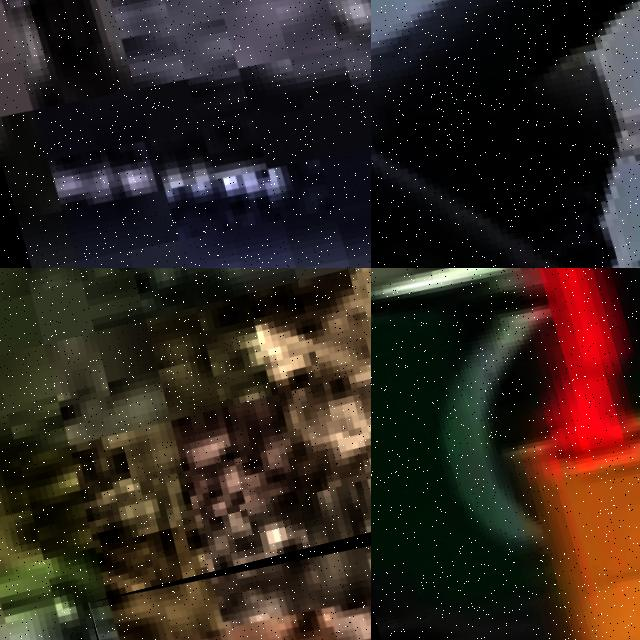drone: (371, 268, 640, 640), (0, 0, 371, 268), (371, 0, 640, 268), (88, 504, 371, 640)
